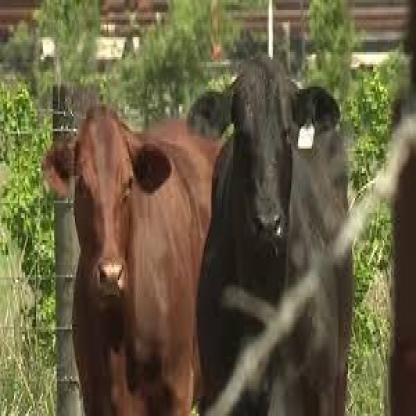cow: (186, 57, 354, 416), (41, 104, 232, 416)
